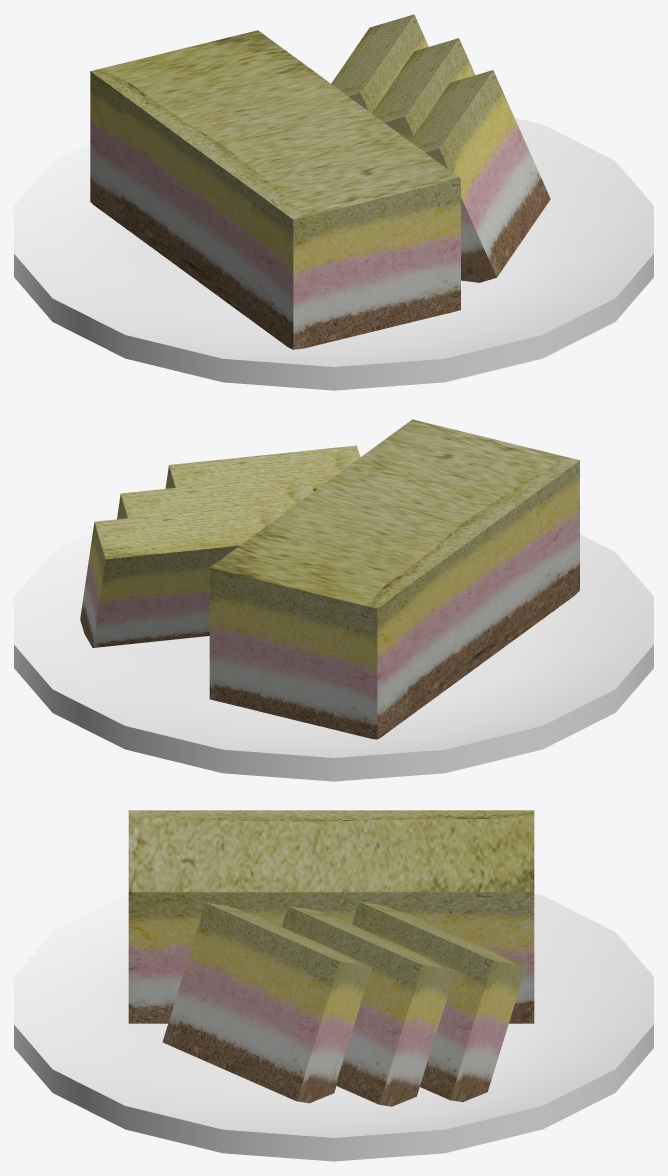
Rendered from ricecake.FBX.
The picture shows the model from 3 angles, top to bottom: view 1: azimuth 30°, elevation 25°; view 2: azimuth 150°, elevation 25°; view 3: azimuth 270°, elevation 25°; orthographic projection.
Parts seen in each view (by area): view 1: Cylinder001; view 2: Cylinder001; view 3: Cylinder001.
Boxes of the visible parts, bbox=[...] form: Cylinder001: bbox=[14, 14, 653, 390]; Cylinder001: bbox=[14, 419, 653, 781]; Cylinder001: bbox=[14, 810, 653, 1161].
Size of the model in its own units: 22.48 by 6.25 by 22.14.
